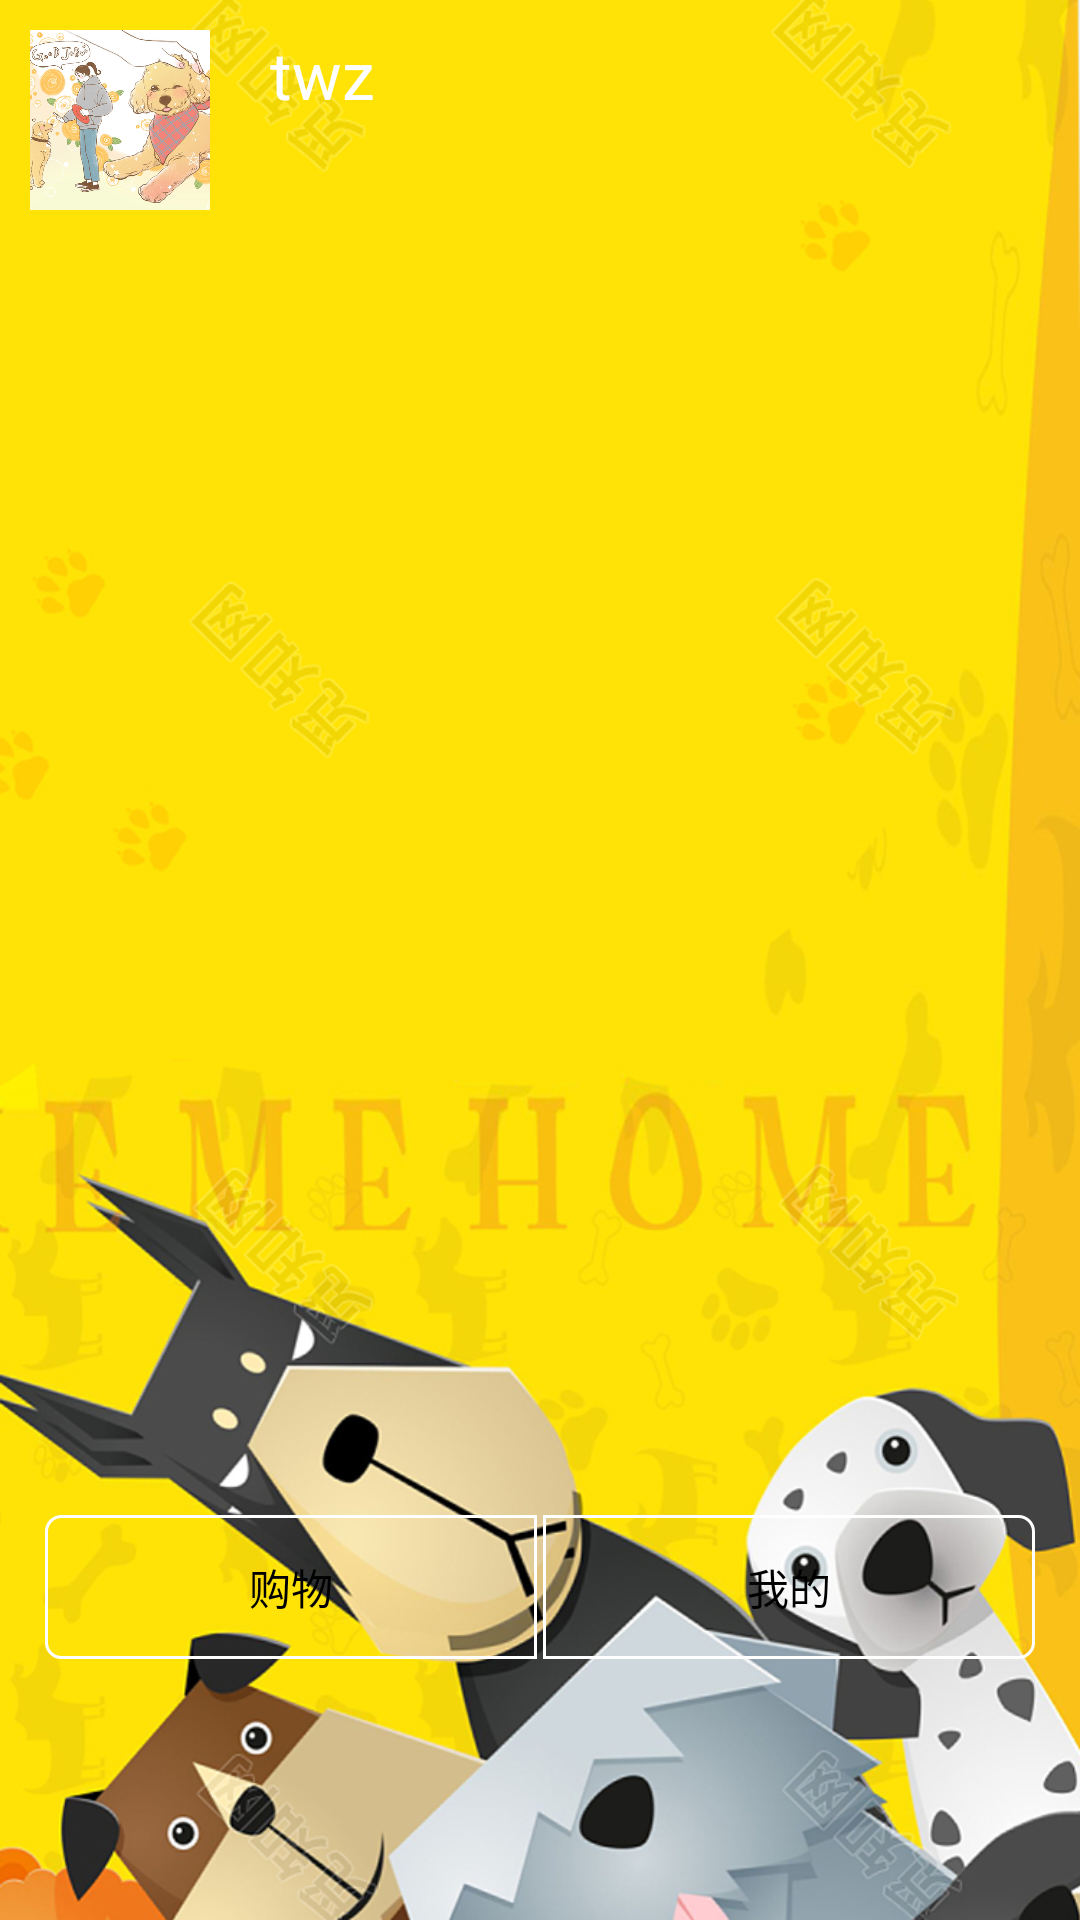

Icons on this 1080x1920 Android screen, each with the point to tap as (x,y):
touxiang: (120,120)
